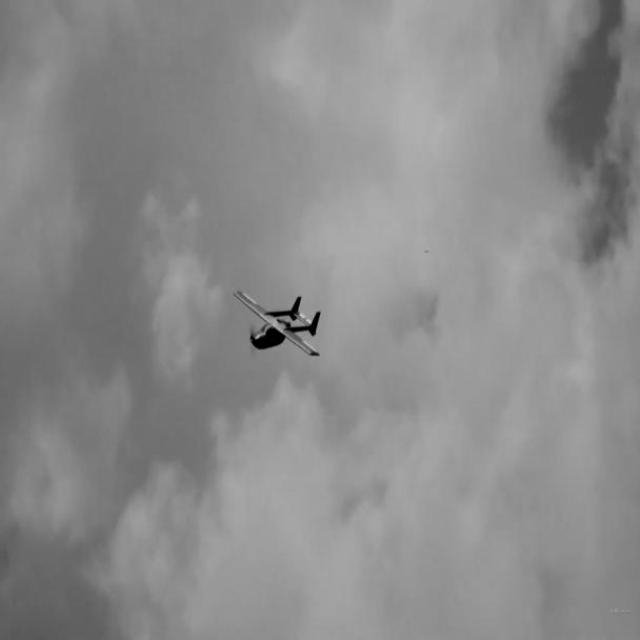iha: (261, 323, 292, 326)
